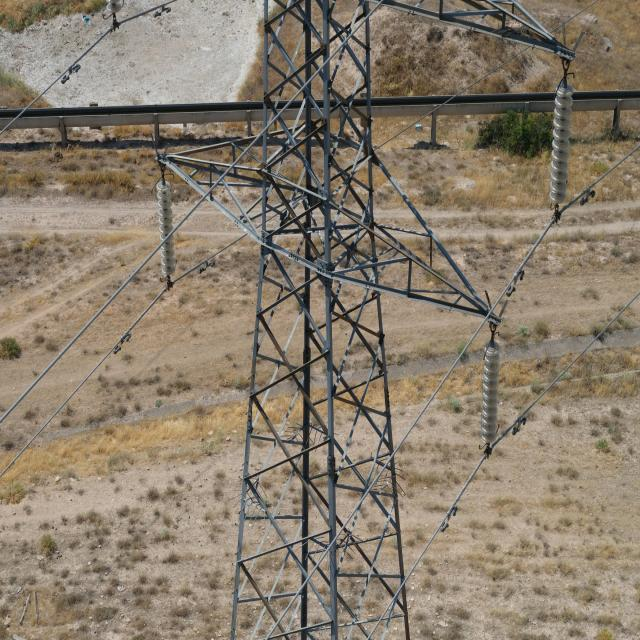direk: (199, 2, 417, 640)
